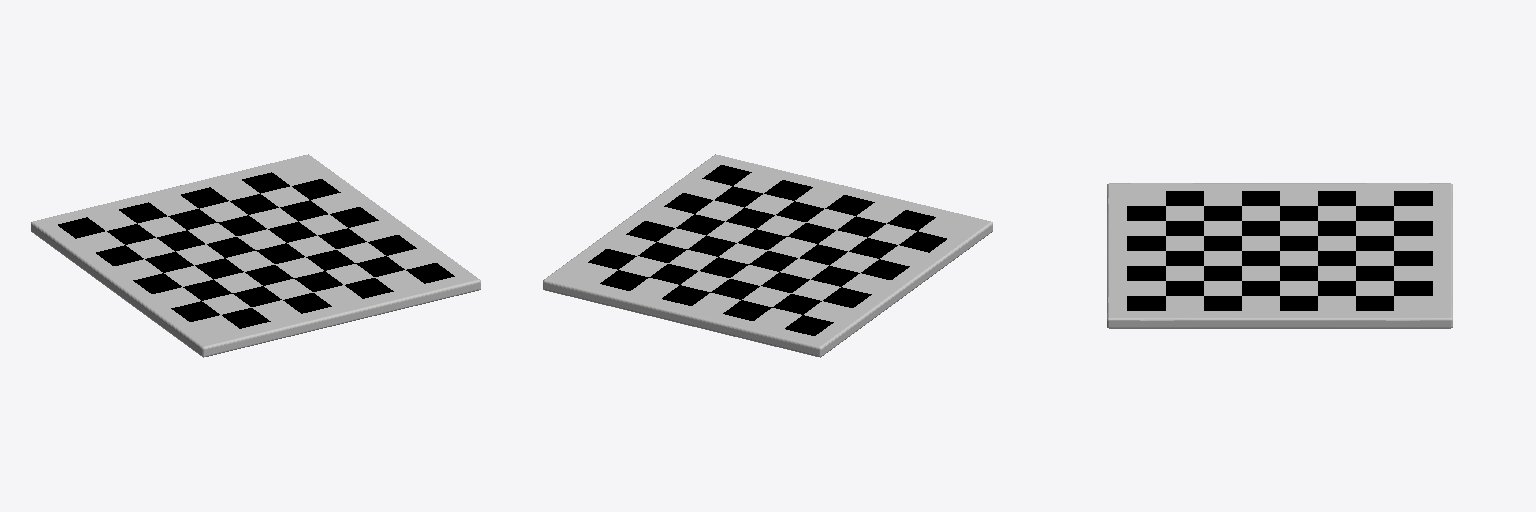
File: chessboardobj.obj
3 views of the same model, side by side, from view 1: azimuth 30°, elevation 25°; view 2: azimuth 150°, elevation 25°; view 3: azimuth 270°, elevation 25° (orthographic).
Parts seen in each view (by area): view 1: Chess_board_Mesh; view 2: Chess_board_Mesh; view 3: Chess_board_Mesh.
Part boxes in pixels (x1,y1,x2,y2): Chess_board_Mesh: (31,154,480,357); Chess_board_Mesh: (543,154,992,357); Chess_board_Mesh: (1107,183,1452,328).
Size of the model in its own units: 1.87 by 0.0694 by 2.01.